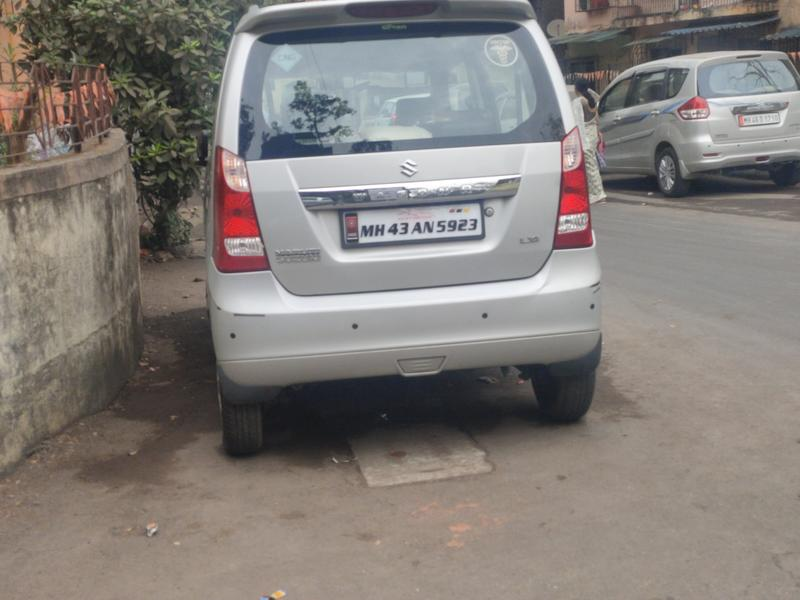license_plate: (335, 198, 497, 247)
